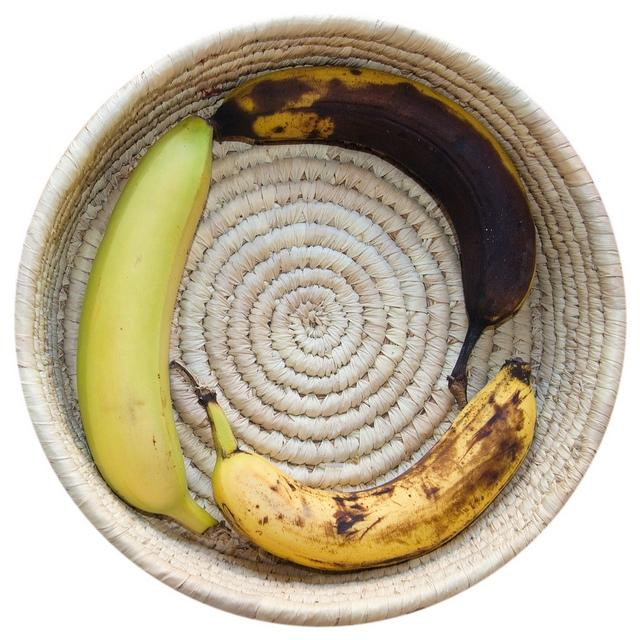banana: (205, 65, 538, 412), (169, 357, 537, 571), (76, 116, 220, 536)
